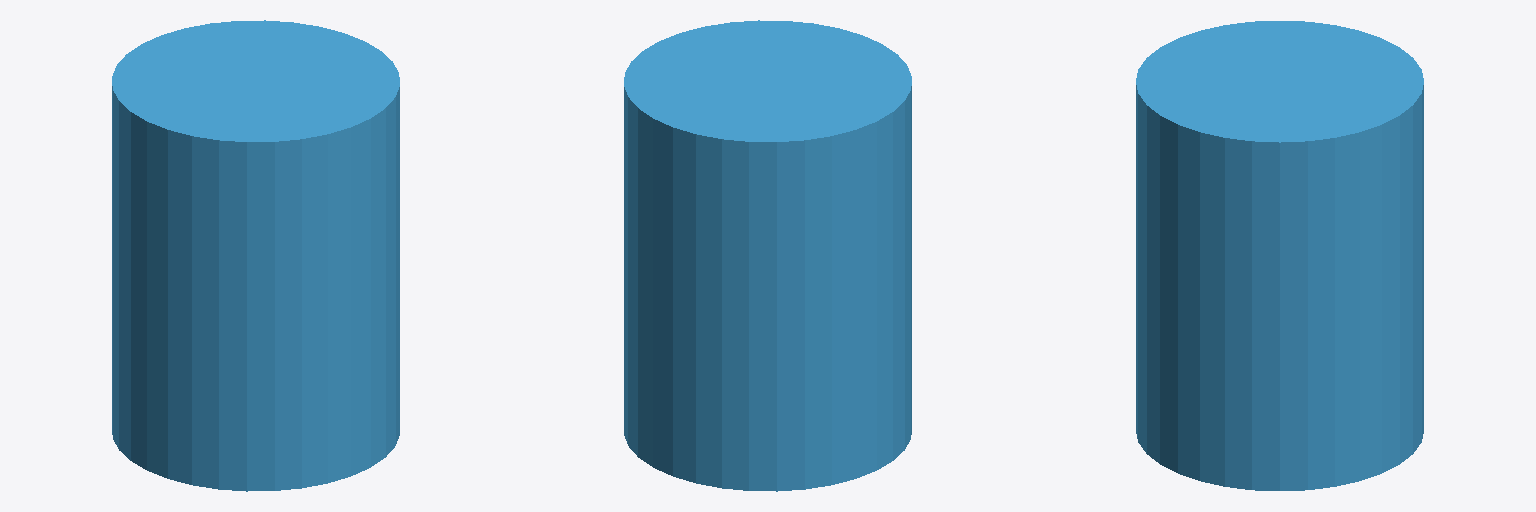
robot.urdf — cylinder6:
<?xml version="1.0" ?>
<!-- =================================================================================== -->
<!-- |    This document was autogenerated by xacro from [local-path]/ws_velma/underlay/src/barrett_hand_robot/barrett_hand_defs/robots/barrett_hand.urdf.xml | -->
<!-- |    EDITING THIS FILE BY HAND IS NOT RECOMMENDED                                 | -->
<!-- =================================================================================== -->
<robot name="cylinder6" xmlns:controller="http://playerstage.sourceforge.net/gazebo/xmlschema/#controller" xmlns:geom="http://playerstage.sourceforge.net/gazebo/xmlschema/#geom" xmlns:interface="http://playerstage.sourceforge.net/gazebo/xmlschema/#interface" xmlns:sensor="http://playerstage.sourceforge.net/gazebo/xmlschema/#sensor" xmlns:xacro="http://www.ros.org/wiki/xacro">
  <material name="DarkGrey">
    <color rgba="0.3 0.3 0.3 1.0"/>
  </material>
  <material name="Red">
    <color rgba="0.3 0.3 0.3 1.0"/>
  </material>
  <material name="Black">
    <color rgba="0 0 0 1.0"/>
  </material>
  <material name="Orange">
    <color rgba="1.0 0.487 0 1.0"/>
  </material>
  <material name="Silver">
    <color rgba="1.0 1.0 1.0 1.0"/>
  </material>
  <material name="Grey">
    <color rgba="0.7 0.7 0.7 1.0"/>
  </material>
  <material name="Blue">
    <color rgba="0.0 0.0 0.8 1.0"/>
  </material>
  <material name="HandGray">
    <color rgba="0.953 0.996 0.694 1.0"/>
  </material>
  <material name="SickBlue">
    <color rgba="0.3058 0.5921 0.7294 1.0"/>
  </material>
  <link name="world"/>
  <joint name="arm_world_joint" type="floating">
    <origin rpy="0 0 0" xyz="0 0 0"/>
    <parent link="world"/>
    <child link="cylinder6"/>
  </joint>
  <link name="cylinder6">
    <inertial>
      <origin xyz="0.00035500 -0.00499005 0.04864979"/>
      <mass value="0.63352875"/>
      <inertia ixx="0.00102103" ixy="0.00000775" ixz="-0.00001230" iyy="0.00080944" iyz="-0.00014417" izz="0.00068788"/>
    </inertial>
    <visual>
      <origin rpy="0 0 0" xyz="0 0 0"/>
      <geometry>
        <mesh filename="package://barrett_hand_sim_dart/meshes/cylinder6.stl"/>
      </geometry>
    </visual>
    <!-- collision mesh used for whole arm motion planning -->
    <!-- collision mesh used for grasp planning -->
    <collision>
      <origin rpy="0 0 0" xyz="0 0 0"/>
      <geometry>
        <mesh filename="package://barrett_hand_sim_dart/meshes/cylinder6.stl"/>
      </geometry>
    </collision>
  </link>
  <gazebo reference="cylinder6">
    <turnGravityOff>true</turnGravityOff>
  </gazebo>
</robot>

--- Facts derived from the render (not from the file) ---
The picture shows the robot from 3 angles, left to right: view 1: azimuth 30°, elevation 25°; view 2: azimuth 150°, elevation 25°; view 3: azimuth 270°, elevation 25°; orthographic projection.
Robot: cylinder6 — 2 links, 1 joints (1 floating); root link world; default pose: every joint at zero.
Visible links, largest first — view 1: cylinder6; view 2: cylinder6; view 3: cylinder6.
Link boxes in pixels (bbox=[...]): cylinder6: bbox=[112, 20, 399, 491]; cylinder6: bbox=[624, 20, 911, 491]; cylinder6: bbox=[1136, 21, 1423, 490].
Size in the robot's own frame: 0.06 by 0.06 by 0.08 metres.
1 mesh visuals loaded from 1 distinct referenced files (1 binary STL).
